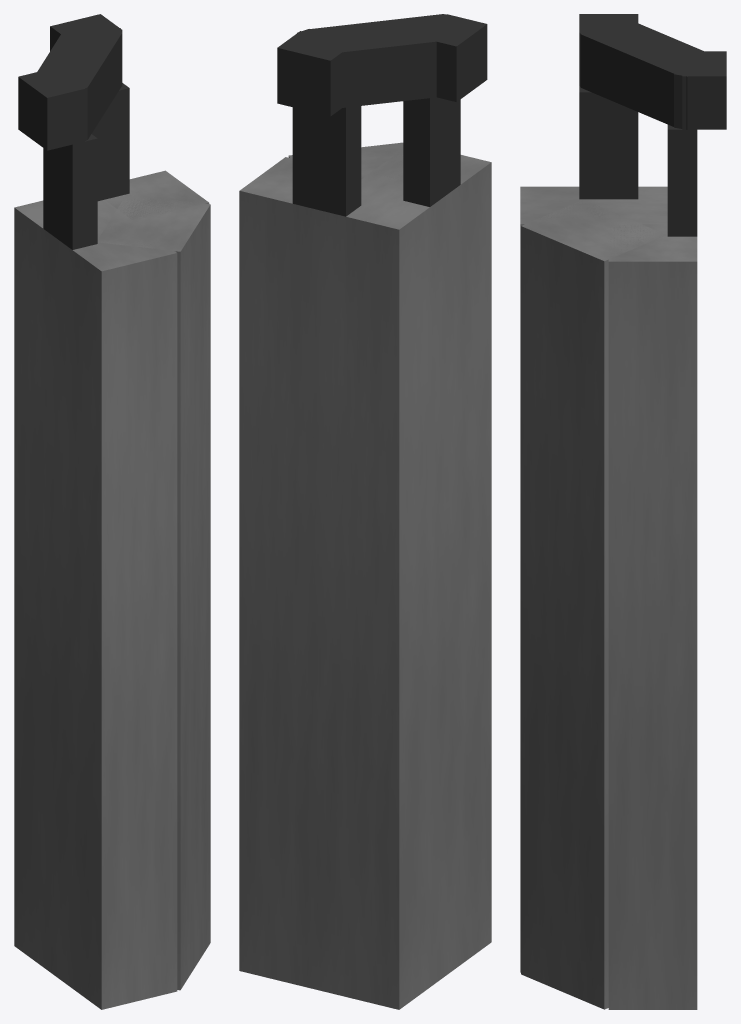
Rendered from dc_metro_fence_110.obj.
The picture shows the model from 3 angles, left to right: view 1: azimuth 30°, elevation 25°; view 2: azimuth 150°, elevation 25°; view 3: azimuth 270°, elevation 25°; orthographic projection. The views are drawn at different scales.
Visible parts, largest first — view 1: cube; view 2: cube; view 3: cube.
Boxes of the visible parts, bbox=[...] form: cube: bbox=[14, 14, 210, 1009]; cube: bbox=[239, 14, 491, 1009]; cube: bbox=[520, 14, 726, 1009].
Bounding box in the file's own units: 0.2188 × 1.06 × 0.2188.
2 materials, 2 textured.
